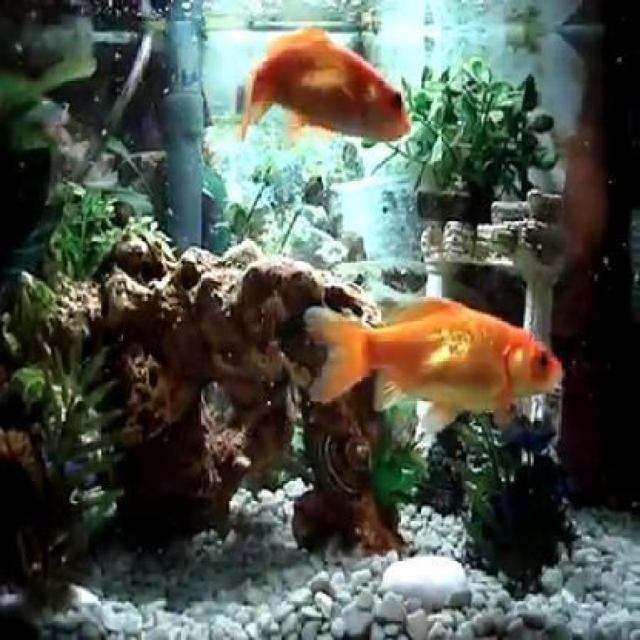GoldFish: (306, 296, 563, 432), (240, 33, 411, 142)
